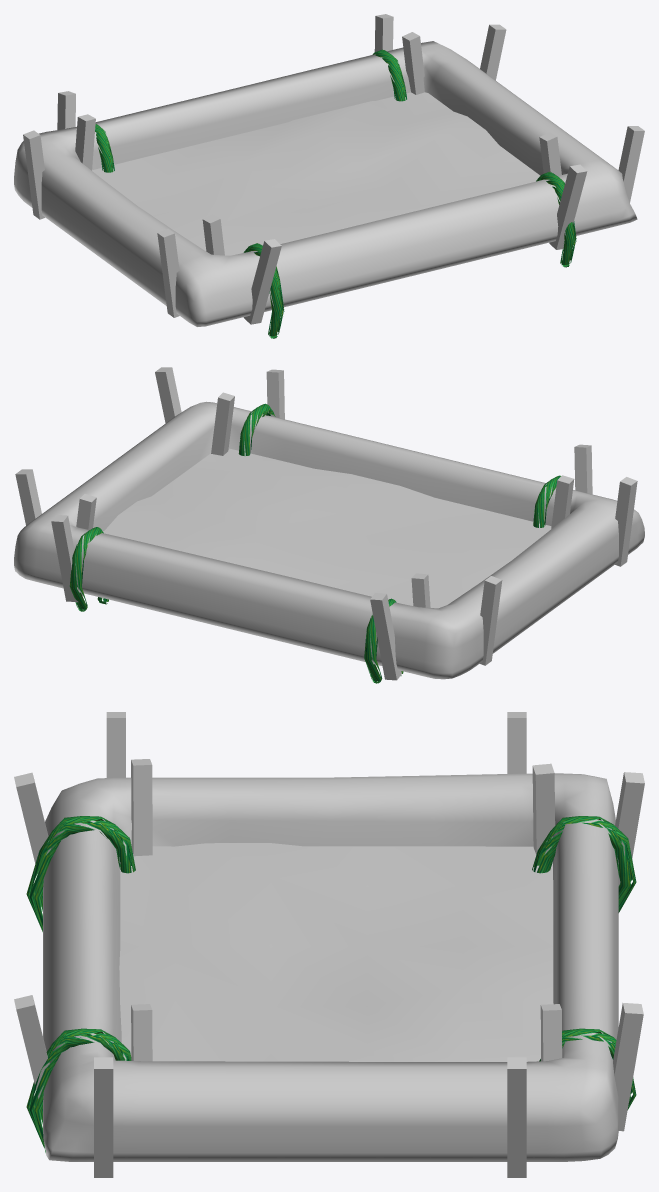
Rendered from GardenPatch.fbx.
3 views of the same model, one above another, from view 1: azimuth 30°, elevation 25°; view 2: azimuth 150°, elevation 25°; view 3: azimuth 270°, elevation 25° (orthographic). The views are drawn at different scales.
Parts seen in each view (by area): view 1: pCube1, pPlane1, pCube7, pCube6, pCube2, pCube3, pCube5, pCube10, pCube4, pCube13, pCylinder16, pCylinder15 (+6 smaller); view 2: pCube1, pPlane1, pCube8, pCube3, pCube2, pCube9, pCylinder14, pCube11, pCube4, pCube5, pCube7, pCube6 (+6 smaller); view 3: pCube1, pPlane1, pCylinder16, pCube4, pCube5, pCylinder13, pCube9, pCylinder15, pCube12, pCube13, pCube6, pCube8 (+6 smaller).
Boxes of the visible parts, box(x1,y1,x2,y2) form: pCube1: box(14, 41, 637, 326); pPlane1: box(92, 92, 540, 255); pCube7: box(243, 239, 281, 324); pCube6: box(549, 164, 587, 249); pCube2: box(157, 228, 179, 317); pCube3: box(23, 130, 44, 219); pCube5: box(618, 126, 644, 202); pCube10: box(402, 32, 424, 94); pCube4: box(480, 24, 506, 80); pCube13: box(75, 114, 95, 170); pCylinder16: box(243, 243, 284, 338); pCylinder15: box(536, 172, 576, 267); pCube1: box(14, 401, 644, 679); pPlane1: box(103, 448, 551, 608); pCube8: box(370, 593, 401, 680); pCube3: box(479, 576, 502, 665); pCube2: box(615, 477, 637, 566); pCube9: box(51, 514, 82, 602); pCylinder14: box(69, 527, 108, 611); pCube11: box(211, 392, 234, 455); pCube4: box(15, 469, 41, 525); pCube5: box(155, 367, 181, 423); pCube7: box(574, 444, 592, 494); pCube6: box(266, 369, 284, 419); pCube1: box(43, 773, 618, 1161); pPlane1: box(119, 843, 553, 1061); pCylinder16: box(26, 816, 135, 931); pCube4: box(507, 1057, 526, 1177); pCube5: box(94, 1057, 113, 1177); pCylinder13: box(532, 816, 636, 912); pCube9: box(613, 1003, 643, 1131); pCylinder15: box(26, 1028, 131, 1152); pCube12: box(131, 759, 152, 856); pCube13: box(532, 763, 555, 854); pCube6: box(14, 995, 49, 1098); pCube8: box(615, 772, 644, 885).
Size of the model in its own units: 14.15 by 3.11 by 10.86.
